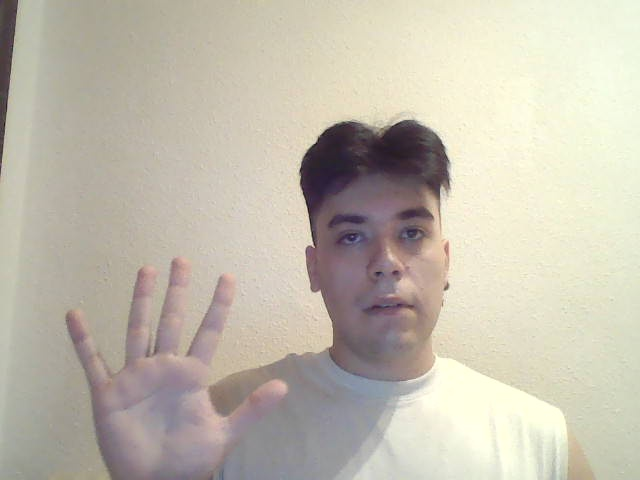Hola: (60, 253, 302, 472)
